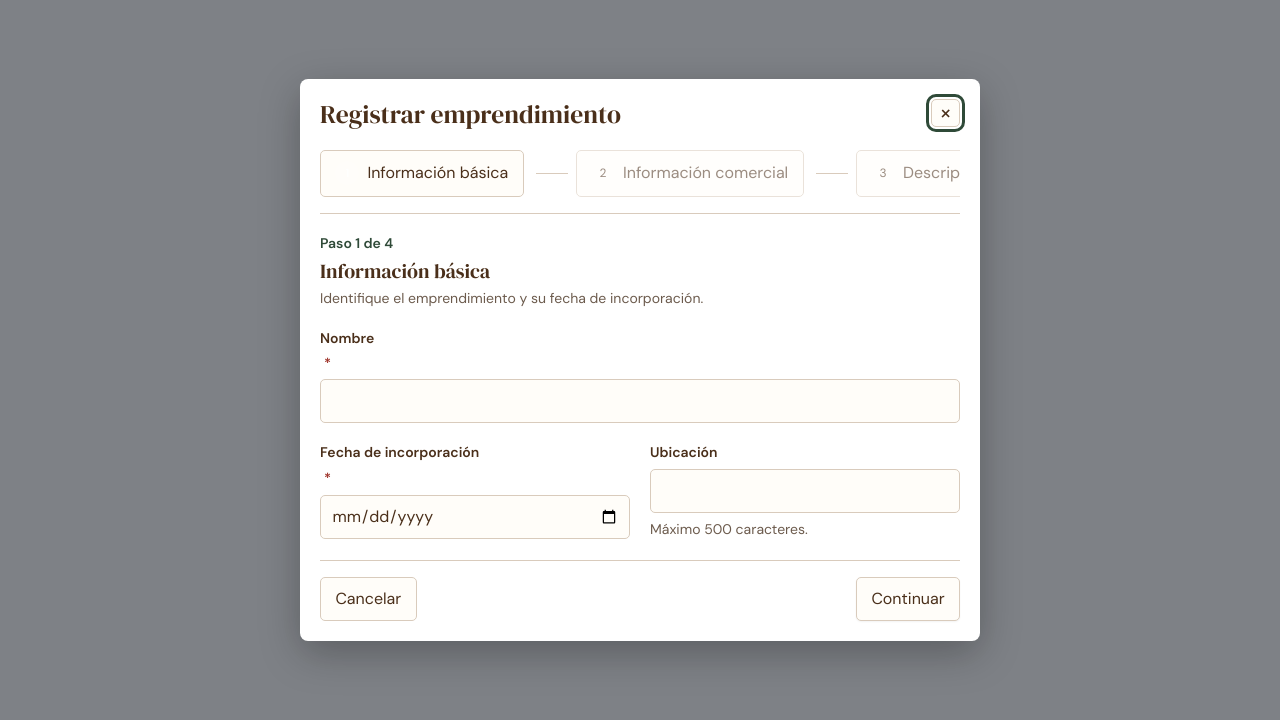
Test: VentureForm › navigates through every intermediate step without creating or updating
The image size is (1280, 720).
Type "Taller Curime" into the field labelled "Nombre *" at (640, 401), box left=320, top=379, right=960, bottom=423
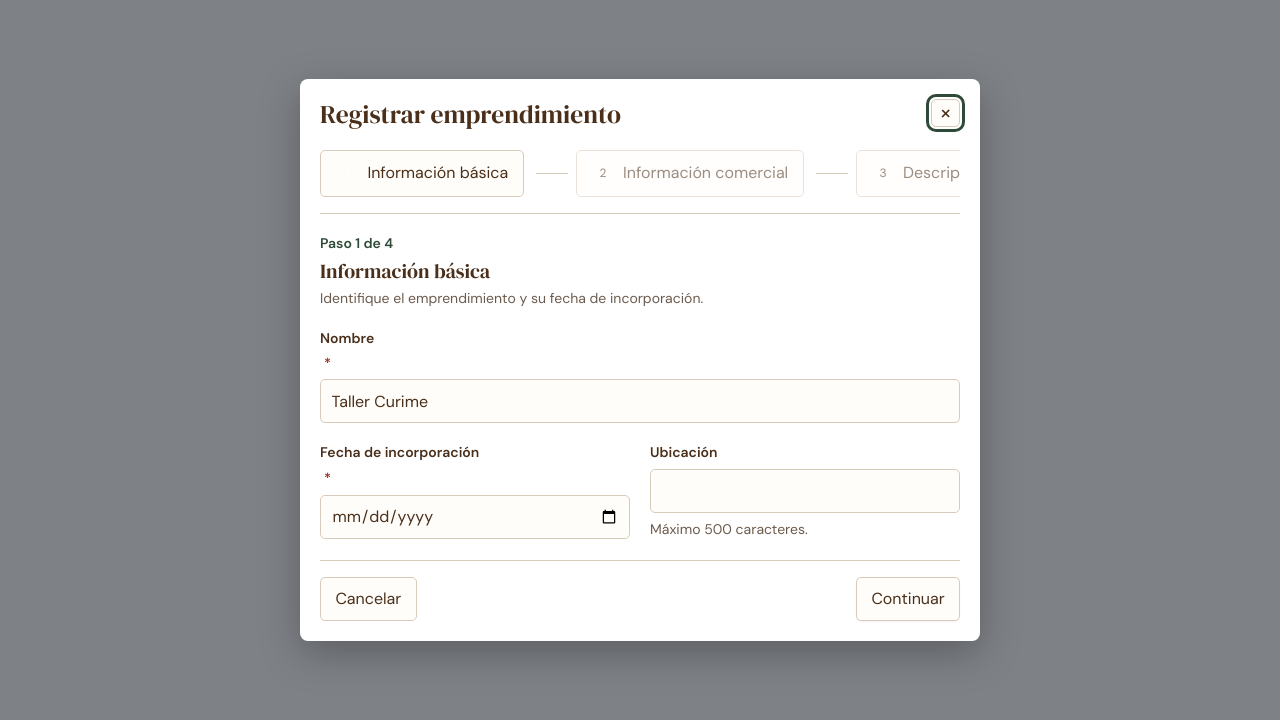
Type "2025-02-03" into the date field labelled "Fecha de incorporación *" at (475, 517), box left=320, top=495, right=630, bottom=539
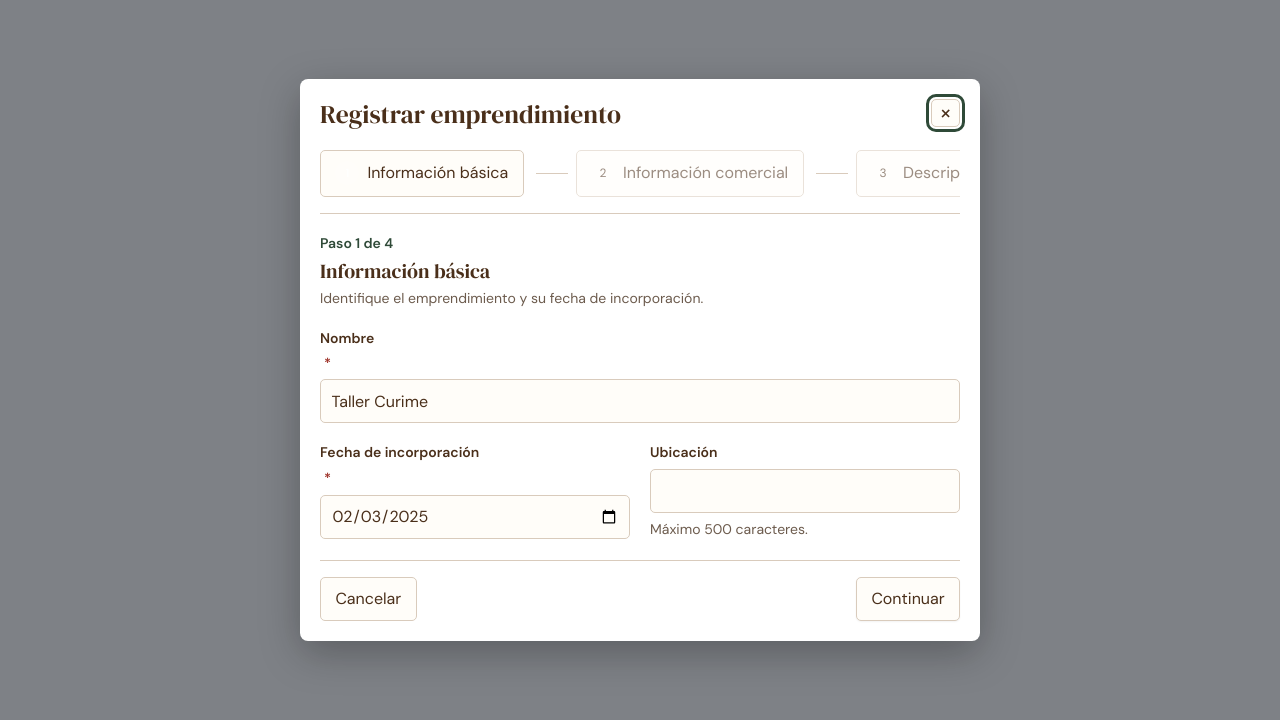
Click the button "Continuar" at (908, 599), box left=856, top=577, right=960, bottom=621
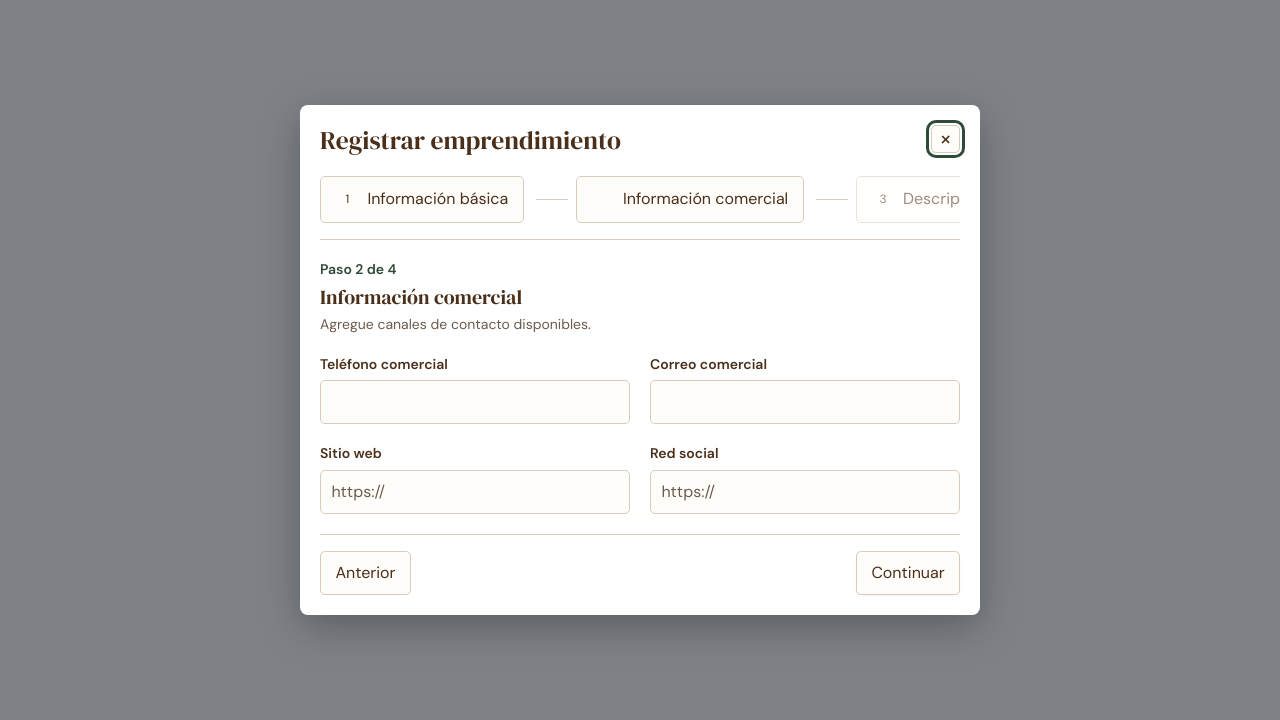
Click the button "Continuar" at (908, 573), box left=856, top=551, right=960, bottom=595
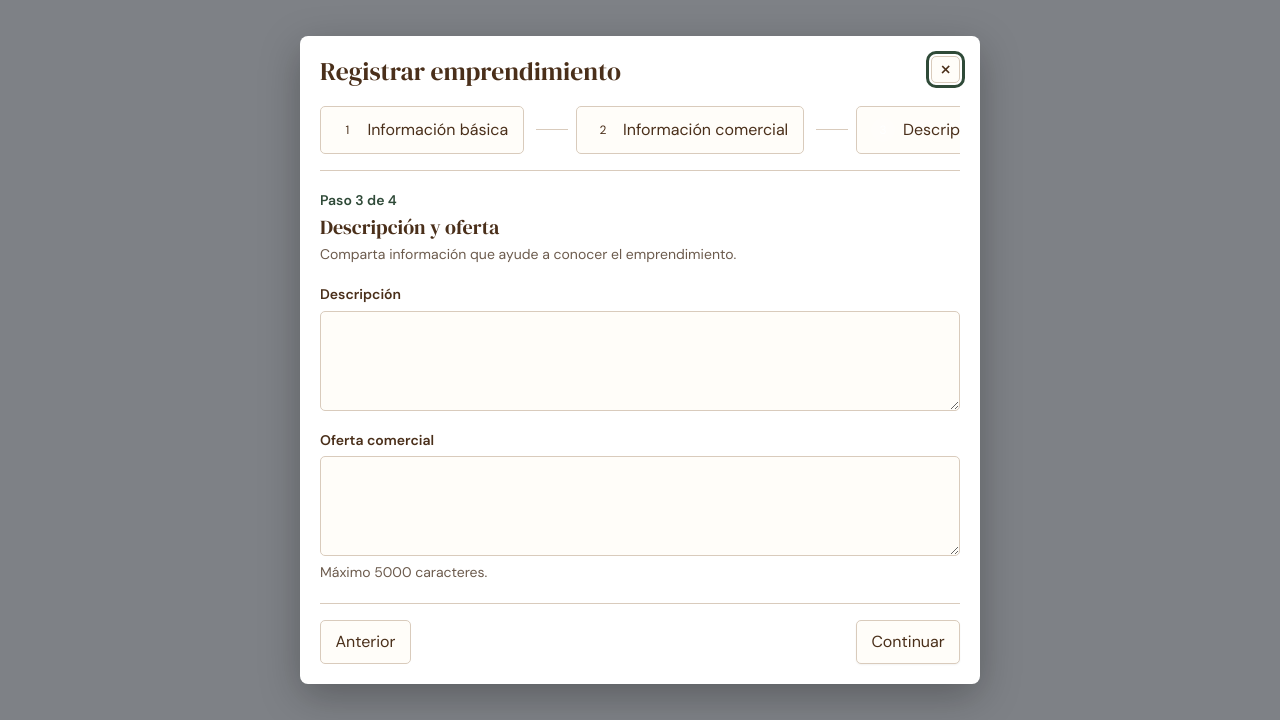
Check: the heading "Descripción y oferta" is shown, box left=320, top=213, right=499, bottom=241
Click the button "Continuar" at (908, 642), box left=856, top=620, right=960, bottom=664
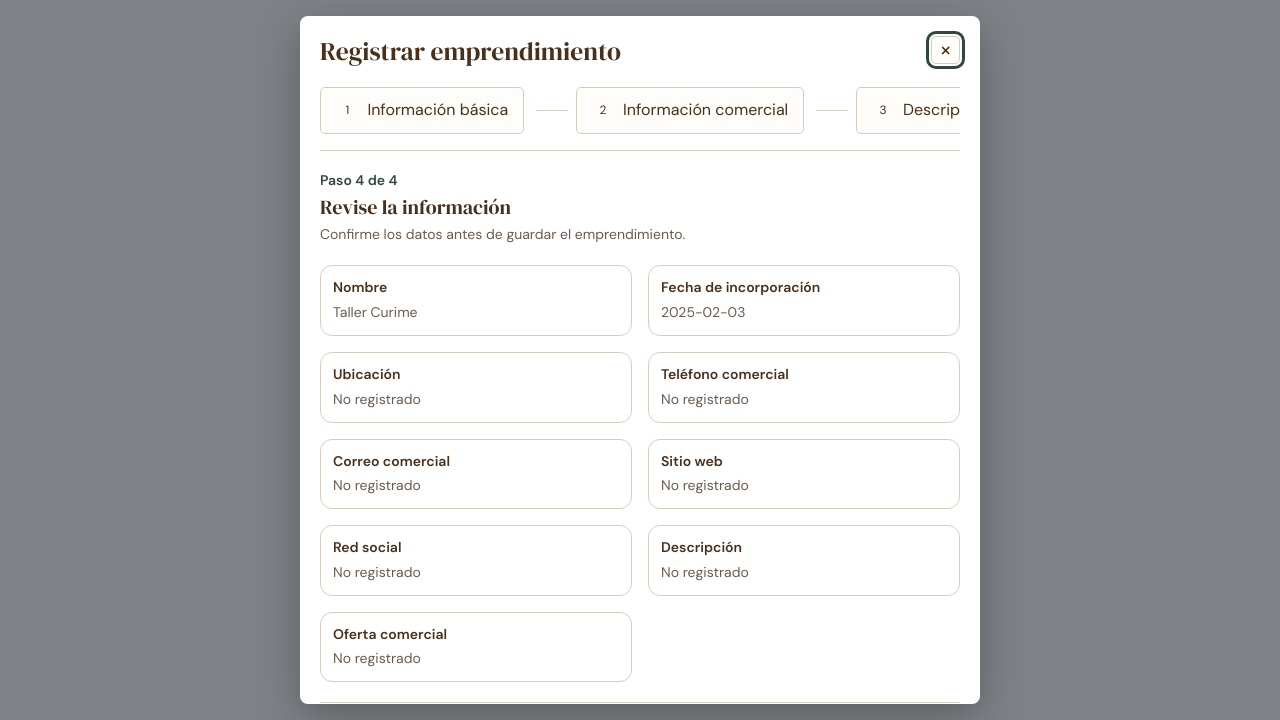
Check: the heading "Revise la información" is shown, box left=320, top=194, right=511, bottom=222
